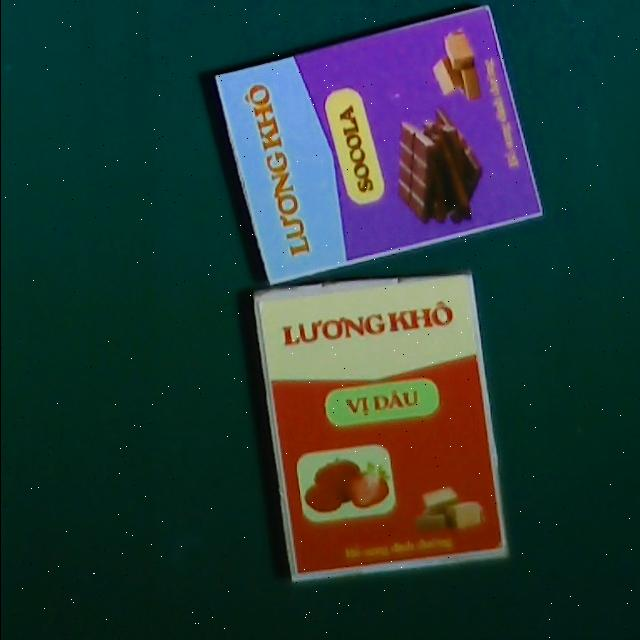dau: (252, 265, 508, 581)
socola: (213, 4, 540, 284)
